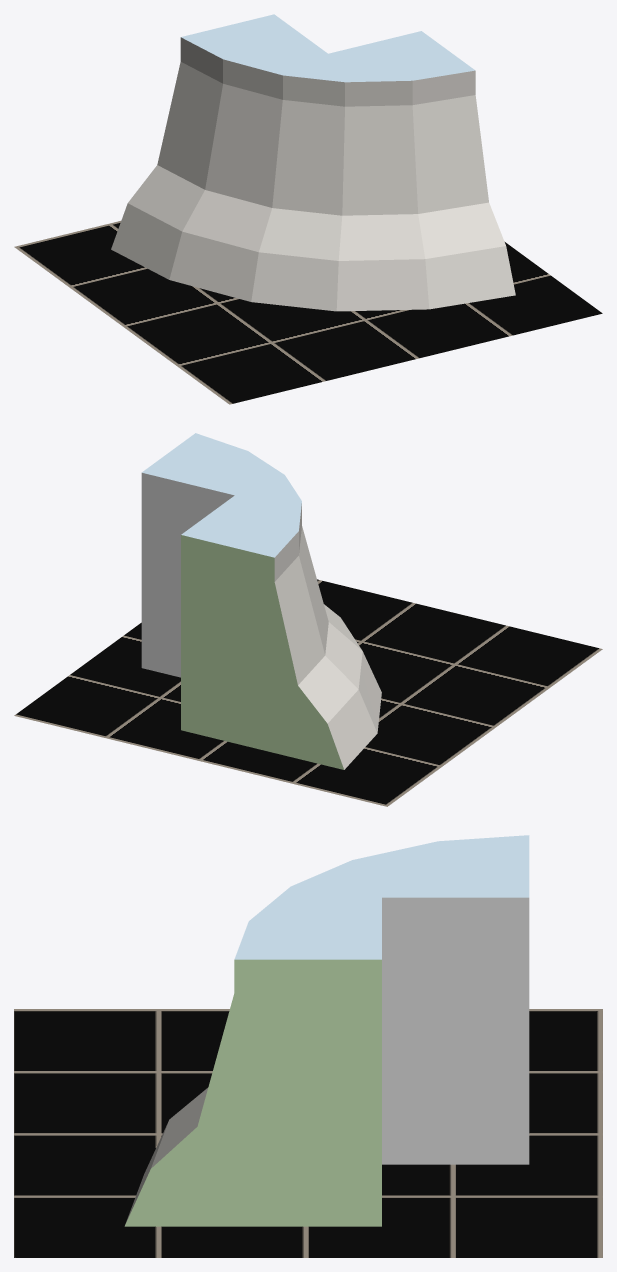
Rendered from Wall_Curve_Outer_3x3_Base.glb.
The picture shows the model from 3 angles, top to bottom: view 1: azimuth 30°, elevation 25°; view 2: azimuth 150°, elevation 25°; view 3: azimuth 270°, elevation 25°; orthographic projection. The views are drawn at different scales.
Parts seen in each view (by area): view 1: Wall_Curve_Outer_3x3_Base, Floor; view 2: Wall_Curve_Outer_3x3_Base, Floor; view 3: Wall_Curve_Outer_3x3_Base, Floor.
Part boxes in pixels (x1=…): Wall_Curve_Outer_3x3_Base: x1=111, y1=14, x2=515, y2=311; Floor: x1=14, y1=221, x2=602, y2=404; Wall_Curve_Outer_3x3_Base: x1=141, y1=433, x2=381, y2=769; Floor: x1=14, y1=579, x2=602, y2=806; Wall_Curve_Outer_3x3_Base: x1=124, y1=835, x2=529, y2=1226; Floor: x1=14, y1=1009, x2=602, y2=1257.
Size of the model in its own units: 400 by 200 by 400.
5 materials, 1 textured.
